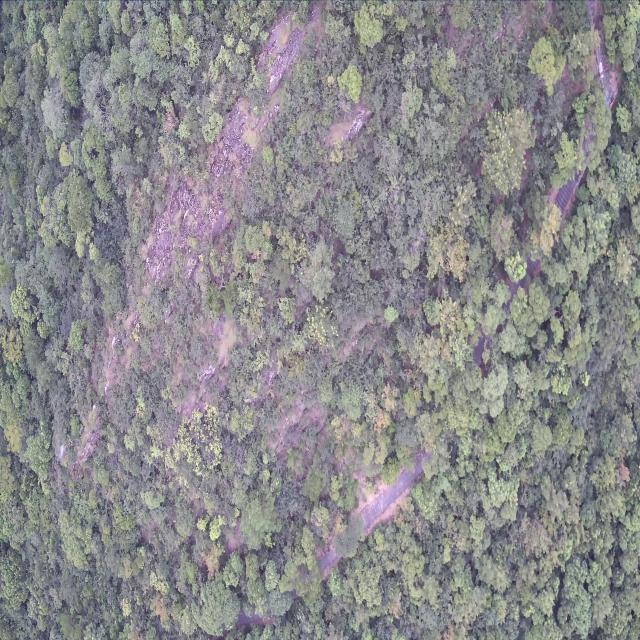UAV: (57, 444, 66, 460)
